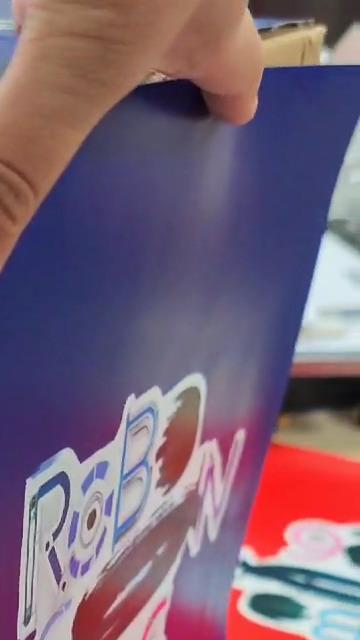B_R1: (0, 339, 253, 640)
